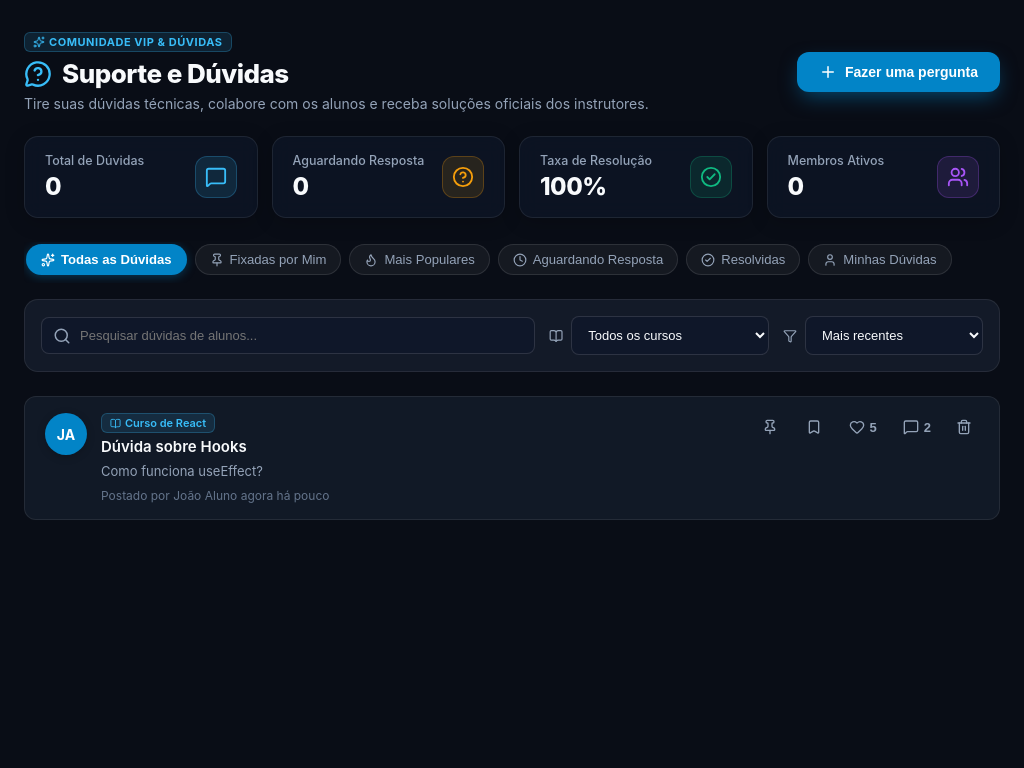
Test case: SupportManagement Component › opens topic detail modal when clicking a topic card
The width and height of the screenshot is (1024, 768).
expect the heading "Dúvida sobre Hooks" is shown: met, box [101,437,247,456]
Click the element with test id "support-topic-card-101": (512, 458) [24,396,1000,520]
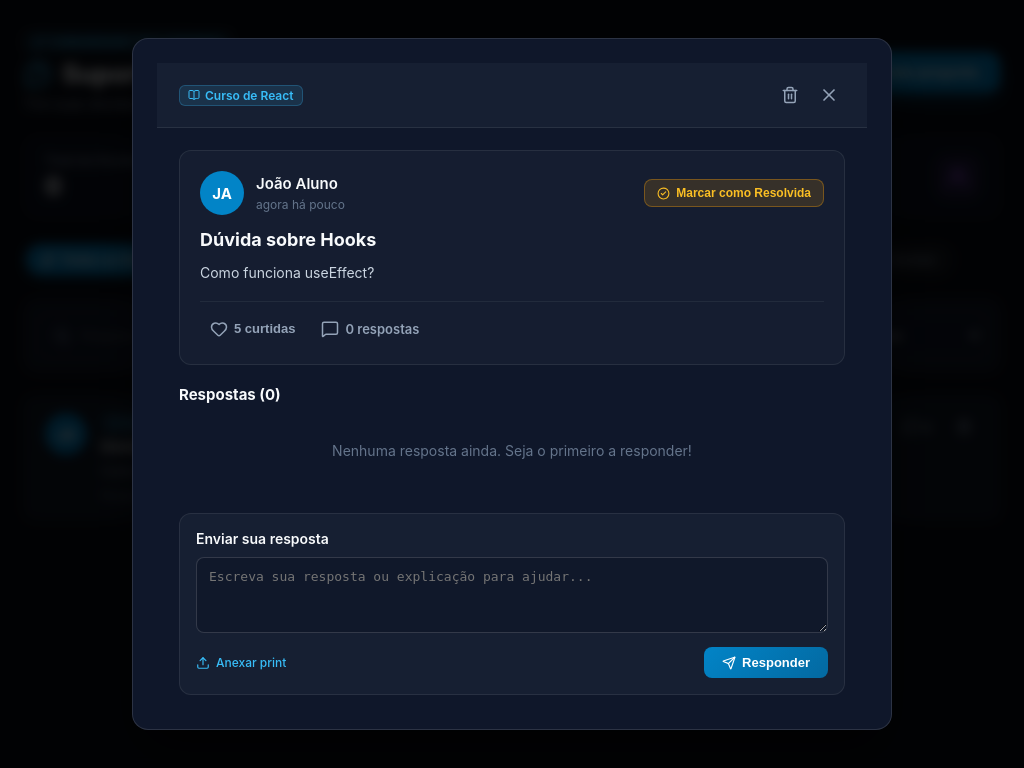
expect the element with test id "support-topic-detail-modal" is shown: met
